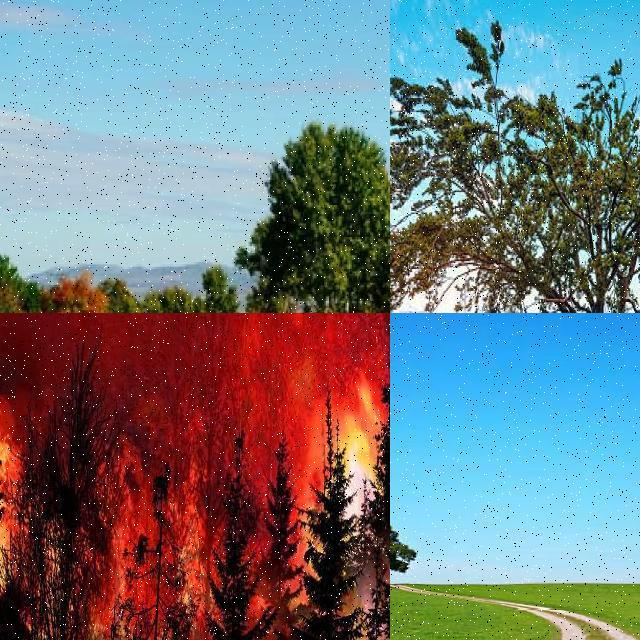tree: (390, 0, 640, 312), (23, 330, 127, 640), (258, 120, 389, 312), (272, 380, 360, 640), (192, 407, 270, 640), (130, 460, 190, 640), (262, 430, 302, 630), (0, 402, 32, 630), (390, 500, 460, 584), (0, 396, 18, 592), (42, 267, 94, 313), (198, 266, 238, 314), (135, 289, 187, 313), (100, 278, 132, 314)
